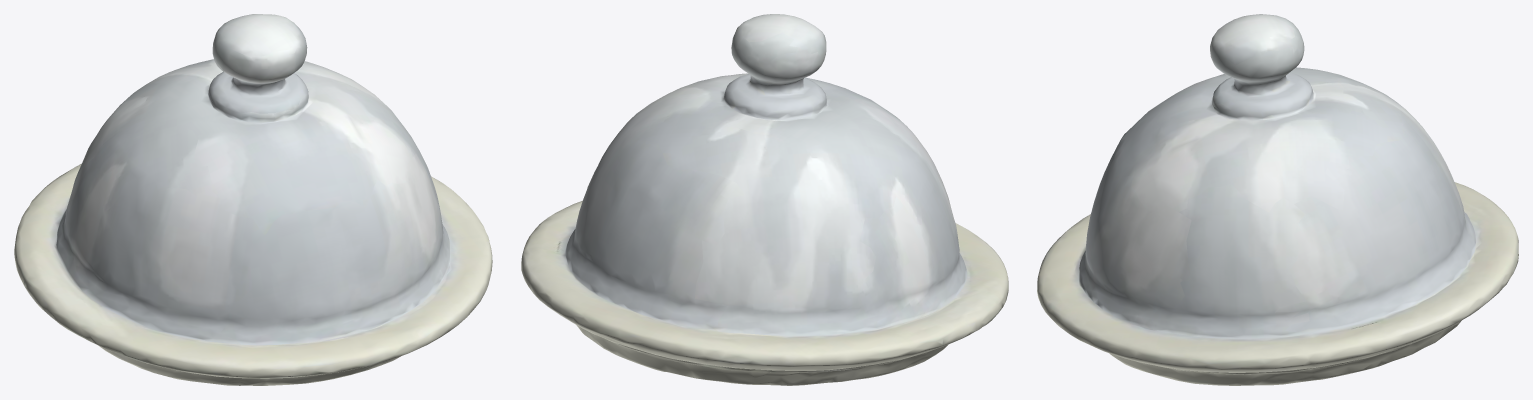
File: cloche.glb
The picture shows the model from 3 angles, left to right: view 1: azimuth 30°, elevation 25°; view 2: azimuth 150°, elevation 25°; view 3: azimuth 270°, elevation 25°; orthographic projection.
Parts seen in each view (by area): view 1: geometry_0; view 2: geometry_0; view 3: geometry_0.
Part boxes in pixels (box(x1,y1,x2,y2)): geometry_0: box(14, 14, 492, 385); geometry_0: box(521, 14, 1008, 385); geometry_0: box(1037, 14, 1518, 385).
Size of the model in its own units: 0.907 by 0.7095 by 0.9078.
Materials: 1 (1 with a texture image).
